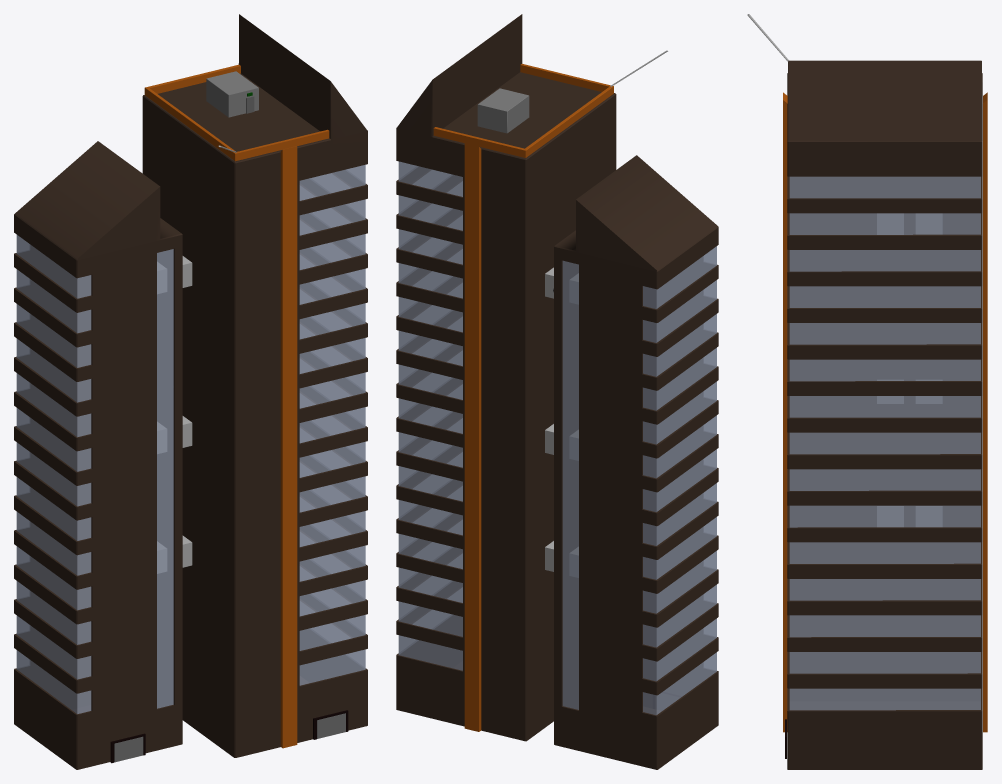
File: AngleBuilding04.fbx
3 renders of one model, left to right at view 1: azimuth 30°, elevation 25°; view 2: azimuth 150°, elevation 25°; view 3: azimuth 270°, elevation 25°, orthographic. The views are drawn at different scales.
Visible parts, largest first — view 1: AngleBuilding_04; view 2: AngleBuilding_04; view 3: AngleBuilding_04.
Part boxes in pixels (box(x1,y1,x2,y2)): AngleBuilding_04: box(14, 14, 367, 769); AngleBuilding_04: box(396, 14, 718, 769); AngleBuilding_04: box(747, 14, 987, 769).
Bounding box in the file's own units: 1201 × 2831 × 894.
